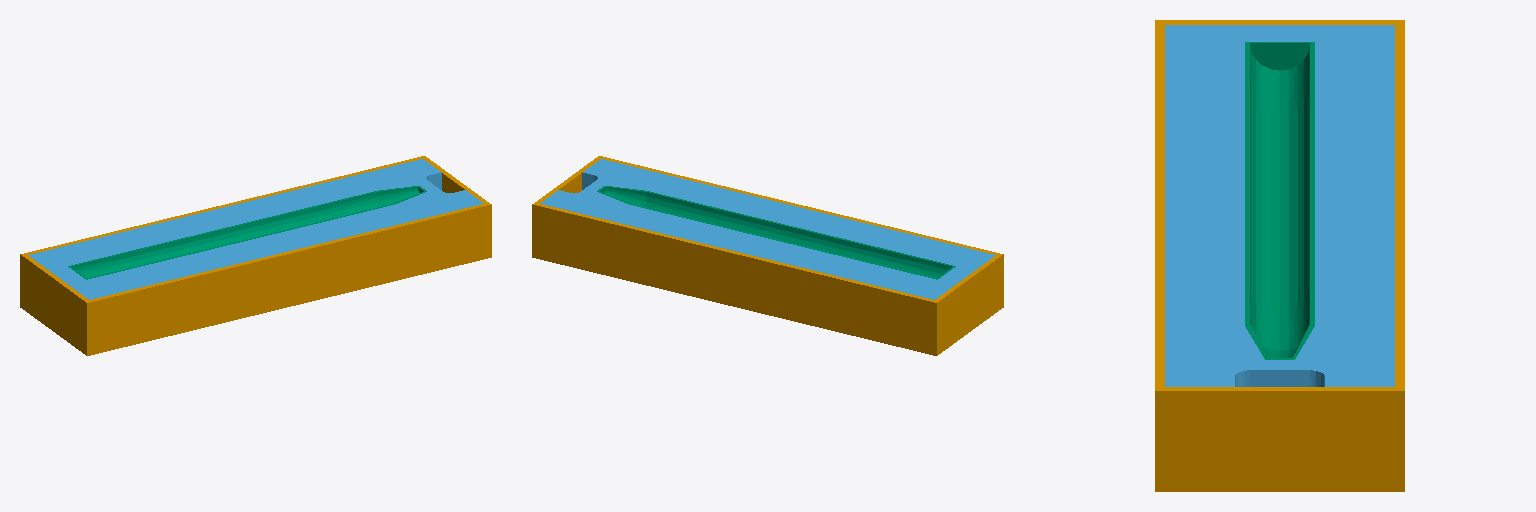
The robot description file, URDF, robot "pen_cavity":
<?xml version="1.0"?>
<robot name="pen_cavity">

  <link name="pen_cavity_out">
    <visual>
      <origin xyz="0.0 0.0 0.0"/>
      <geometry>
        <mesh filename="../../meshes/objects/pen_cavity_out.obj" scale="0.001 0.001 0.001"/>
      </geometry>
    </visual>
    <collision>
      <origin xyz="0.0 0.0 0.0"/>
      <geometry>
        <mesh filename="../../meshes/objects/pen_cavity_in_out_vhacd.obj" scale="0.001 0.001 0.001"/>
      </geometry>
    </collision>
  </link>
  <link name="pen_cavity_in">
    <visual>
      <origin xyz="0.0 0.0 0.0"/>
      <geometry>
        <mesh filename="../../meshes/objects/pen_cavity_in.obj" scale="0.001 0.001 0.001"/>
      </geometry>
    </visual>
  </link>
  <link name="pen_slot">
    <visual>
      <origin xyz="0.0 0.0 0.0"/>
      <geometry>
        <mesh filename="../../meshes/objects/pen_slot.obj" scale="0.001 0.001 0.001"/>
      </geometry>
    </visual>
  </link>
  <joint name="j1" type="fixed">
    <parent link="pen_cavity_out"/>
    <child link="pen_cavity_in"/>
  </joint>
  <joint name="j2" type="fixed">
    <parent link="pen_cavity_out"/>
    <child link="pen_slot"/>
  </joint>
  
</robot>

--- Facts derived from the render (not from the file) ---
Views: 3 orthographic renders of the robot side by side, from view 1: azimuth 30°, elevation 25°; view 2: azimuth 150°, elevation 25°; view 3: azimuth 270°, elevation 25°.
Robot: pen_cavity — 3 links, 2 joints (2 fixed); root link pen_cavity_out; default pose: every joint at zero.
Visible links, largest first — view 1: pen_cavity_out, pen_cavity_in, pen_slot; view 2: pen_cavity_out, pen_cavity_in, pen_slot; view 3: pen_cavity_in, pen_cavity_out, pen_slot.
Boxes of the visible links, left/top/right/bottom form: pen_cavity_out: left=20, top=156, right=491, bottom=355; pen_cavity_in: left=28, top=159, right=483, bottom=299; pen_slot: left=68, top=186, right=426, bottom=279; pen_cavity_out: left=532, top=156, right=1003, bottom=355; pen_cavity_in: left=540, top=159, right=995, bottom=299; pen_slot: left=597, top=186, right=955, bottom=279; pen_cavity_in: left=1165, top=25, right=1394, bottom=386; pen_cavity_out: left=1155, top=20, right=1404, bottom=491; pen_slot: left=1245, top=42, right=1314, bottom=359.
Bounding box of the posed robot: 0.175 × 0.05 × 0.022 m (x, y, z).
3 mesh visuals loaded from 3 distinct referenced files (3 OBJ).